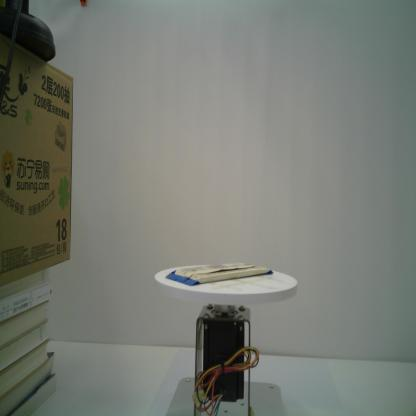Chocolate: (164, 260, 275, 287)
